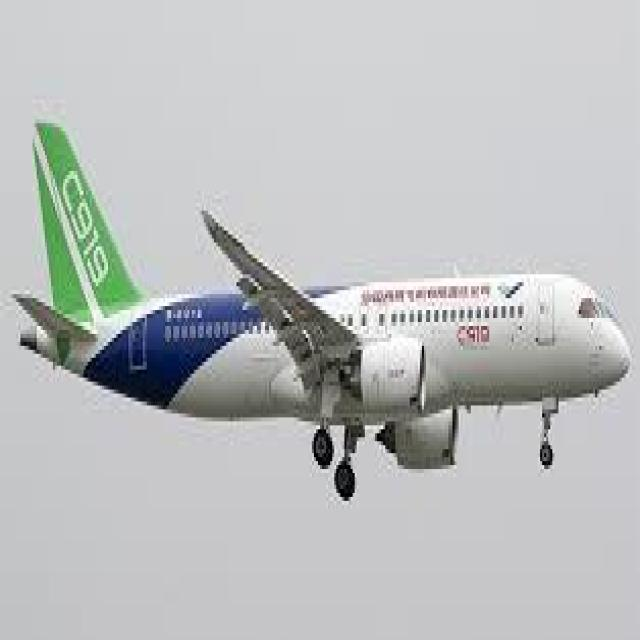Tanks: (15, 101, 625, 459)
